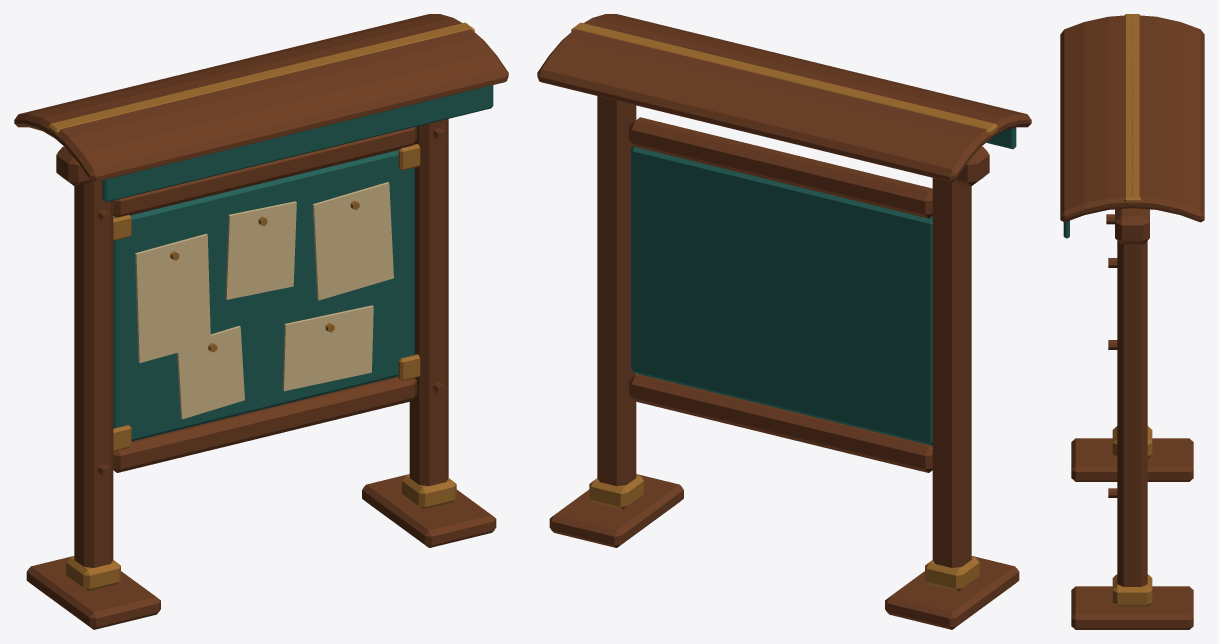
Rendered from quest_board.obj.
3 renders of one model, left to right at view 1: azimuth 30°, elevation 25°; view 2: azimuth 150°, elevation 25°; view 3: azimuth 270°, elevation 25°, orthographic. The views are drawn at different scales.
Visible parts, largest first — view 1: quest_board; view 2: quest_board; view 3: quest_board.
Part boxes in pixels (x1,y1,x2,y2): quest_board: (14,14,508,629); quest_board: (537,14,1031,629); quest_board: (1060,14,1204,629).
Size of the model in its own units: 2 by 2.2 by 0.66.
